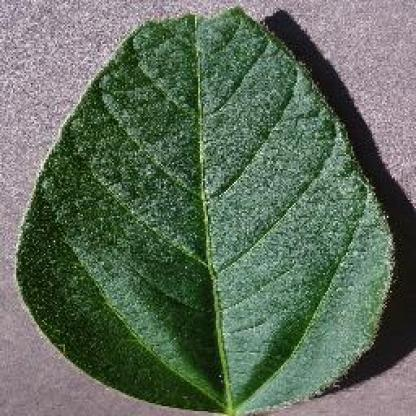soy: (18, 4, 404, 416)
